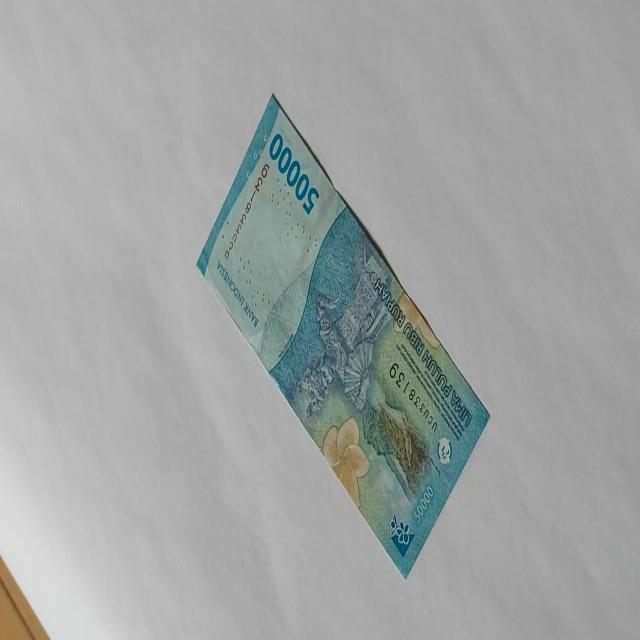lima puluh ribu rupiah: (195, 91, 490, 580), (268, 131, 320, 217)
